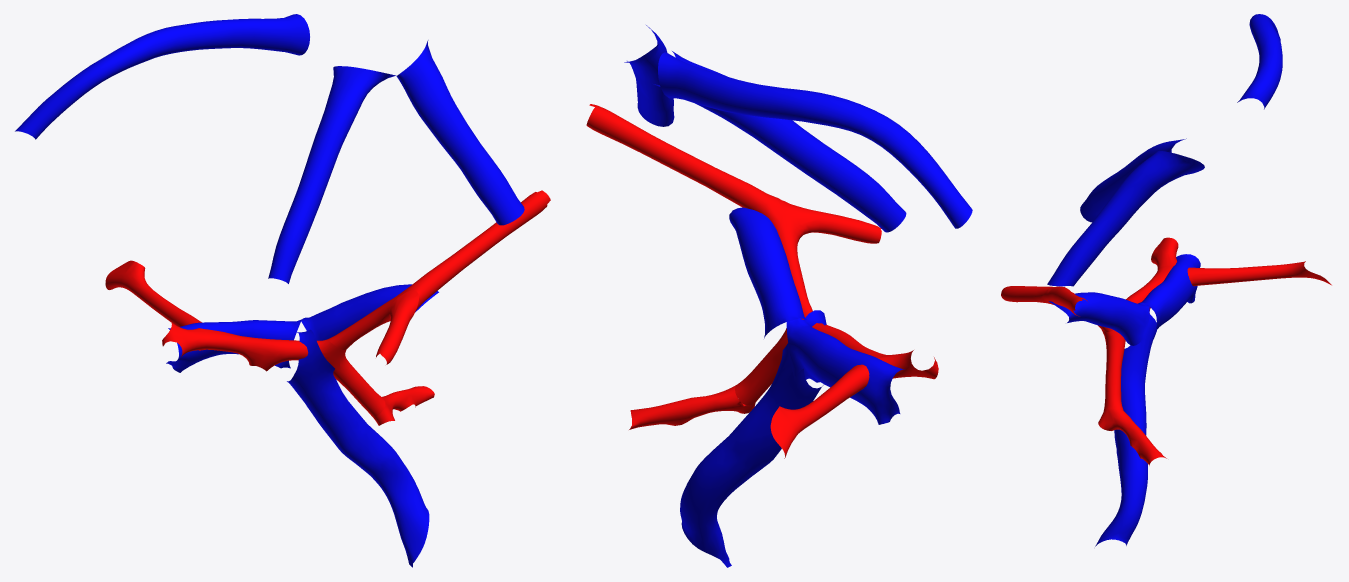
Rendered from liver_vessels.glb.
3 views of the same model, side by side, from view 1: azimuth 30°, elevation 25°; view 2: azimuth 150°, elevation 25°; view 3: azimuth 270°, elevation 25° (orthographic). The views are drawn at different scales.
Parts seen in each view (by area): view 1: VH_F_hepatic_portal_vein, VH_F_middle_hepatic_artery_branch_of_left_hepatic_artery; view 2: VH_F_hepatic_portal_vein, VH_F_middle_hepatic_artery_branch_of_left_hepatic_artery; view 3: VH_F_hepatic_portal_vein, VH_F_middle_hepatic_artery_branch_of_left_hepatic_artery.
Boxes of the visible parts, left/top/right/bottom form: VH_F_hepatic_portal_vein: left=15, top=14, right=524, bottom=567; VH_F_middle_hepatic_artery_branch_of_left_hepatic_artery: left=105, top=190, right=550, bottom=425; VH_F_hepatic_portal_vein: left=624, top=25, right=972, bottom=567; VH_F_middle_hepatic_artery_branch_of_left_hepatic_artery: left=586, top=104, right=938, bottom=458; VH_F_hepatic_portal_vein: left=1047, top=14, right=1282, bottom=546; VH_F_middle_hepatic_artery_branch_of_left_hepatic_artery: left=1001, top=237, right=1331, bottom=465.
Bounding box in the file's own units: 0.115 × 0.1297 × 0.0845.
